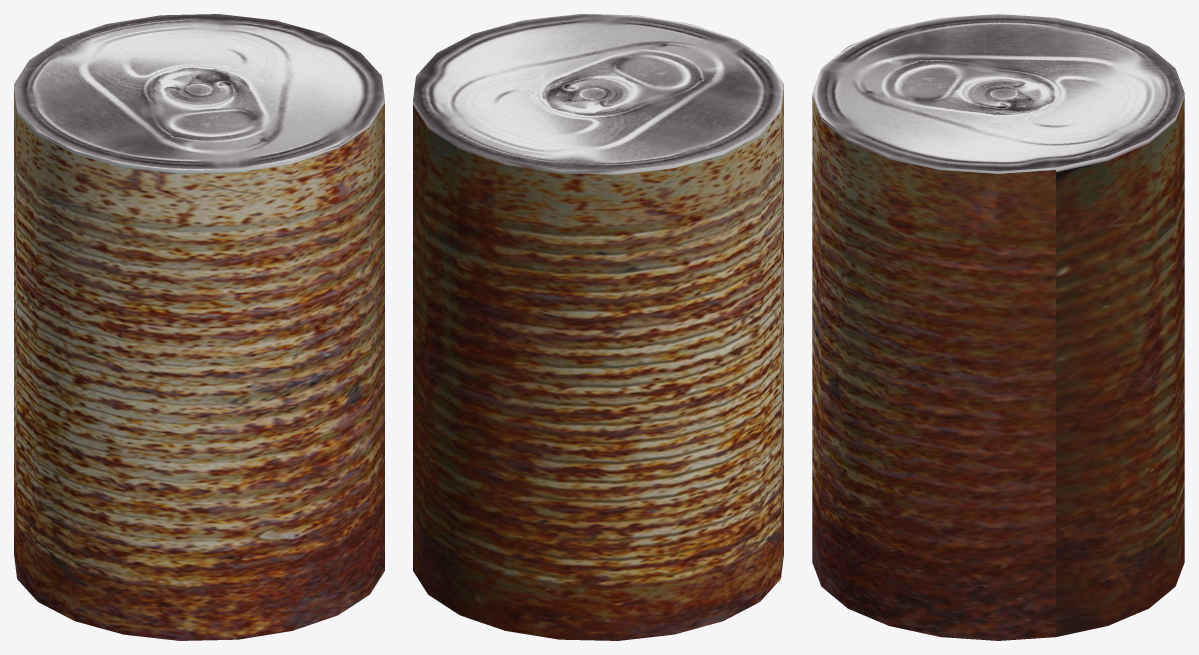
File: CanBFixed_1.fbx
The picture shows the model from 3 angles, left to right: view 1: azimuth 30°, elevation 25°; view 2: azimuth 150°, elevation 25°; view 3: azimuth 270°, elevation 25°; orthographic projection.
Parts seen in each view (by area): view 1: CanTin; view 2: CanTin; view 3: CanTin.
Part boxes in pixels (box(x1,y1,x2,y2)): CanTin: box(14, 14, 384, 640); CanTin: box(413, 14, 783, 640); CanTin: box(812, 14, 1184, 640).
Bounding box in the file's own units: 71.06 × 98.84 × 71.06.
